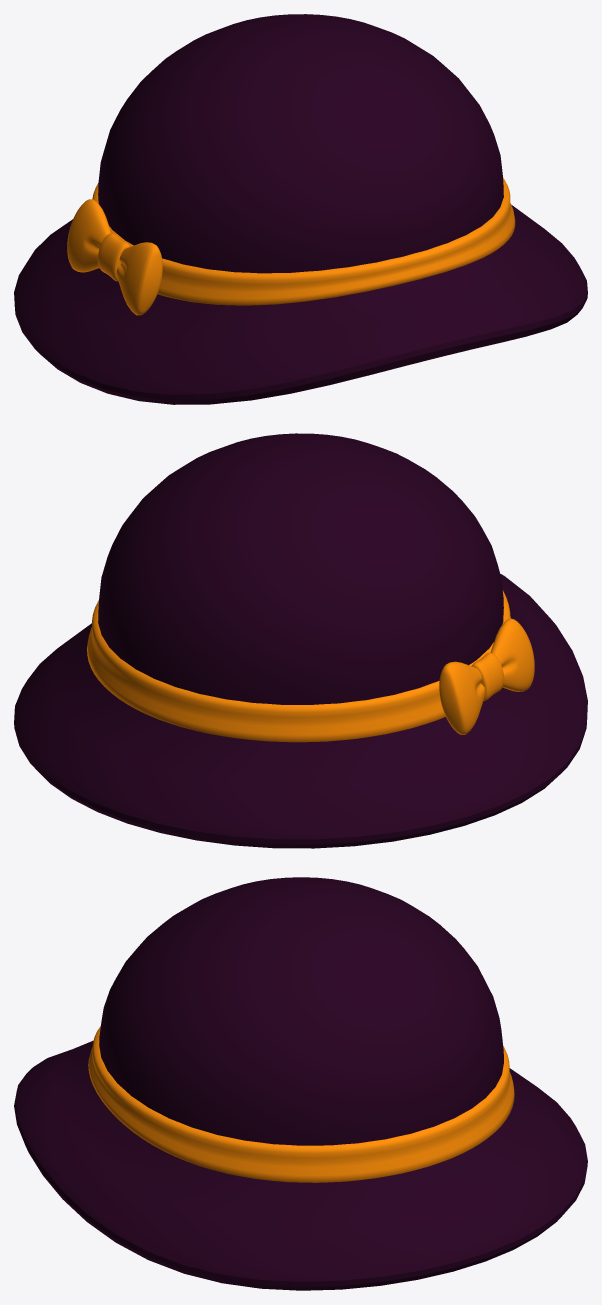
The model's file is chapeaucloche.glb.
3 views of the same model, one above another, from view 1: azimuth 30°, elevation 25°; view 2: azimuth 150°, elevation 25°; view 3: azimuth 270°, elevation 25° (orthographic).
Parts seen in each view (by area): view 1: Capsule001, Capsule002, Cylinder005, Cylinder001; view 2: Capsule001, Capsule002, Cylinder005, Cylinder001; view 3: Capsule001, Capsule002.
Boxes of the visible parts, left/top/right/bottom form: Capsule001: left=14, top=14, right=587, bottom=404; Capsule002: left=92, top=177, right=515, bottom=305; Cylinder005: left=67, top=199, right=162, bottom=315; Cylinder001: left=97, top=233, right=130, bottom=281; Capsule001: left=14, top=433, right=587, bottom=848; Capsule002: left=87, top=590, right=510, bottom=742; Cylinder005: left=439, top=618, right=534, bottom=734; Cylinder001: left=471, top=652, right=504, bottom=700; Capsule001: left=14, top=877, right=587, bottom=1290; Capsule002: left=88, top=1026, right=514, bottom=1182.
Size of the model in its own units: 2.31 by 1.23 by 2.32.
